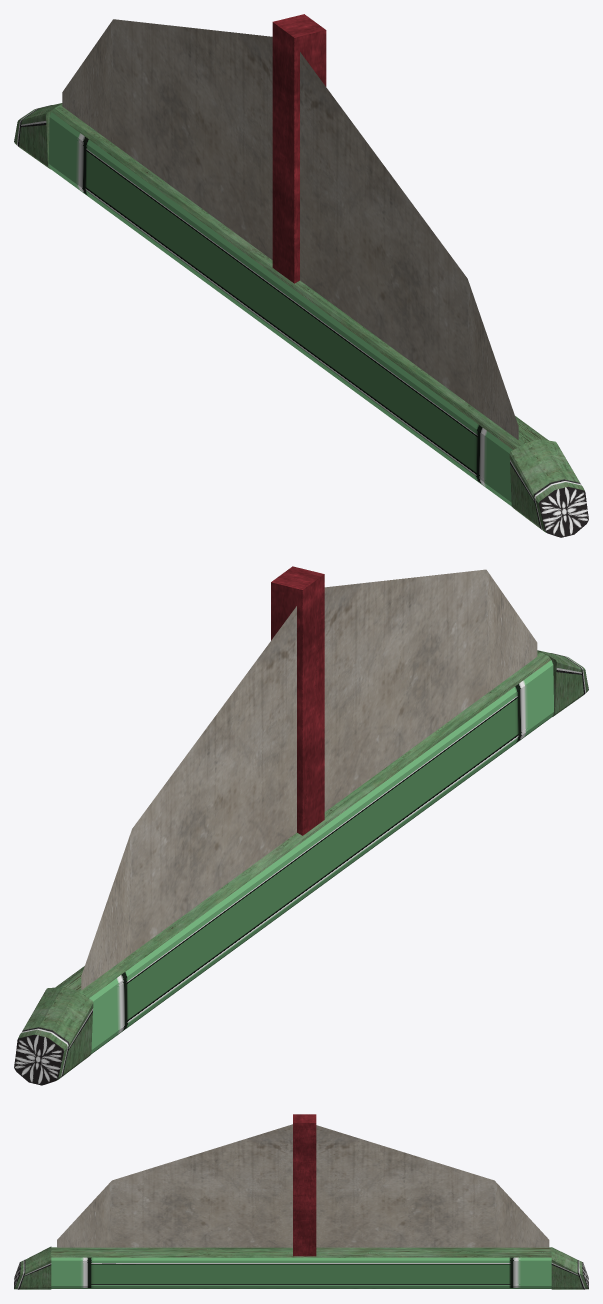
File: SM_R_MiddleBeam_18.fbx
3 renders of one model, top to bottom at view 1: azimuth 30°, elevation 25°; view 2: azimuth 150°, elevation 25°; view 3: azimuth 270°, elevation 25°, orthographic. The views are drawn at different scales.
Parts seen in each view (by area): view 1: SM_R_MiddleBeam_18; view 2: SM_R_MiddleBeam_18; view 3: SM_R_MiddleBeam_18.
Boxes of the visible parts, bbox=[...] form: SM_R_MiddleBeam_18: bbox=[14, 14, 588, 537]; SM_R_MiddleBeam_18: bbox=[14, 566, 588, 1085]; SM_R_MiddleBeam_18: bbox=[14, 1114, 588, 1289].
Size of the model in its own units: 24.3 by 465 by 151.
Materials: 4 (4 with a texture image).
